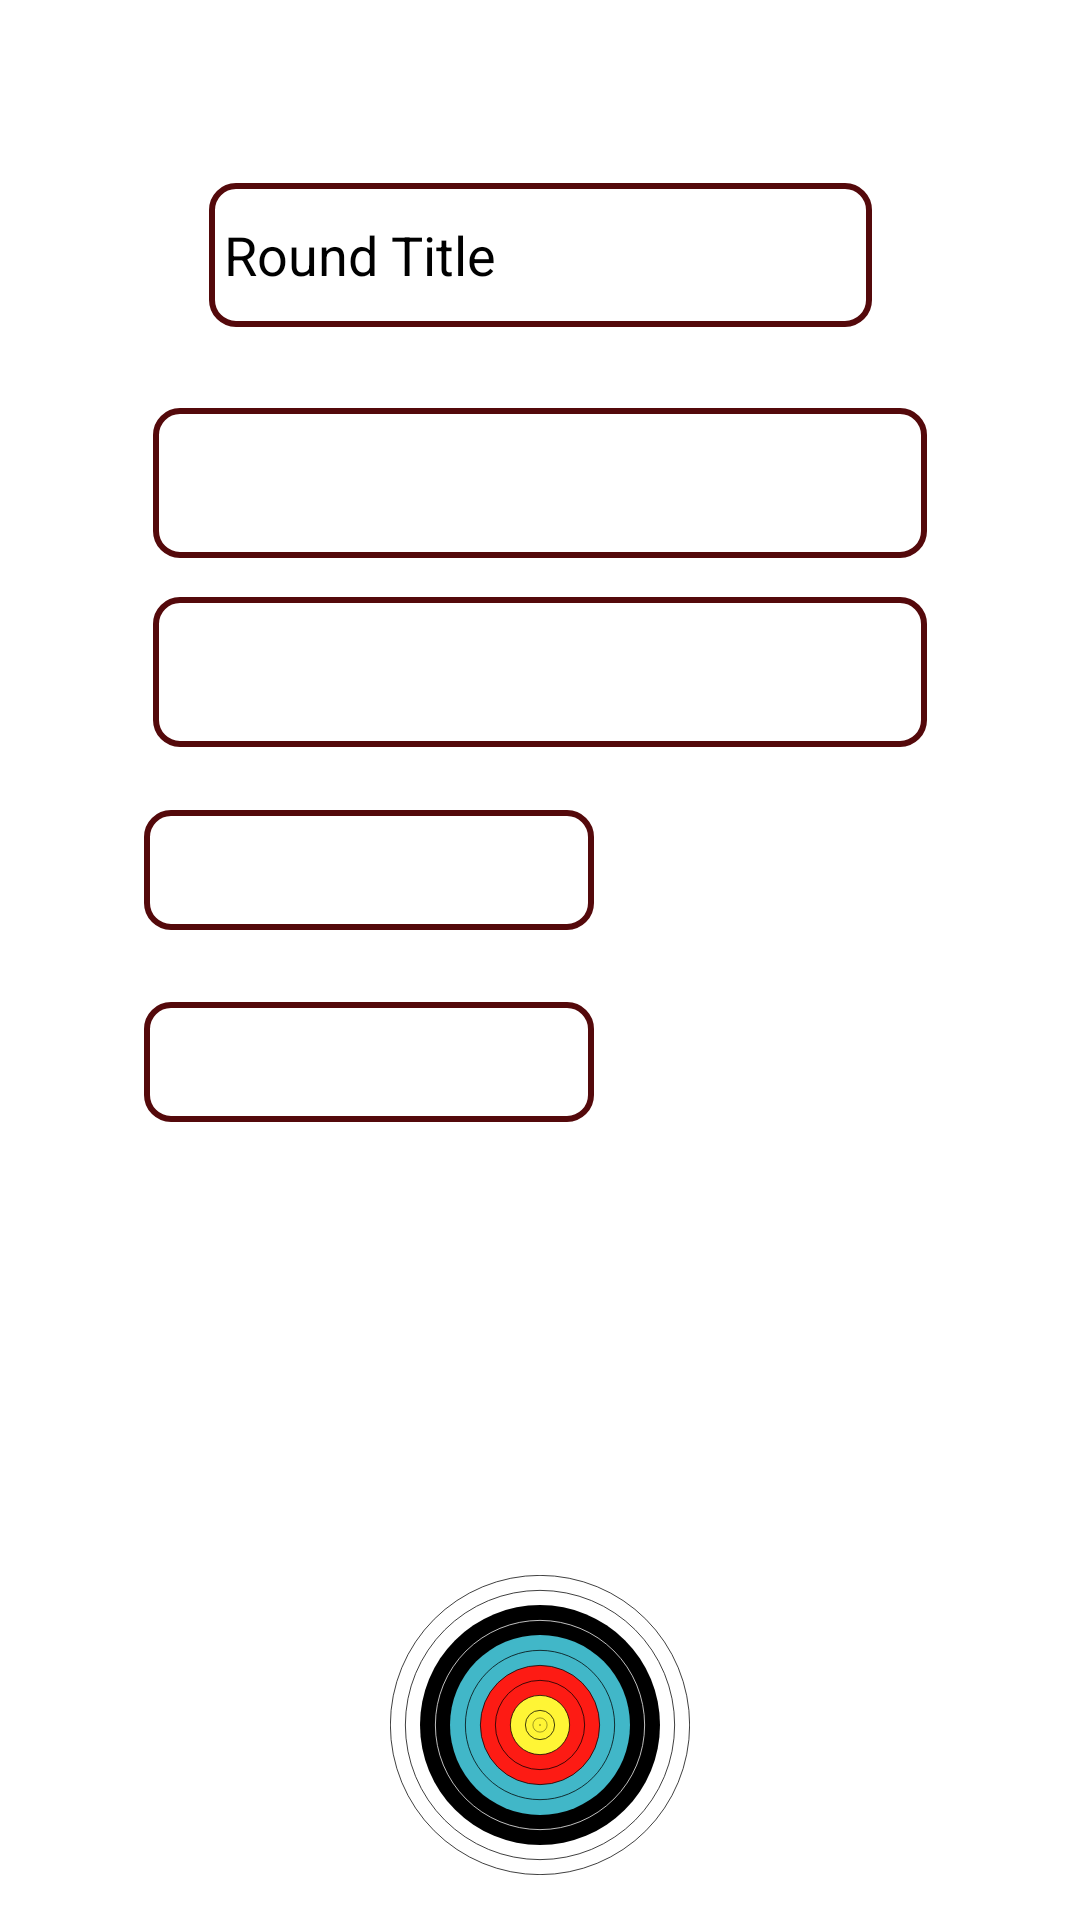

Point at icon controls on the screen. Image size 1080px x 1920px, points as (x=x, y=y).
Select Round: (x=540, y=1725)
